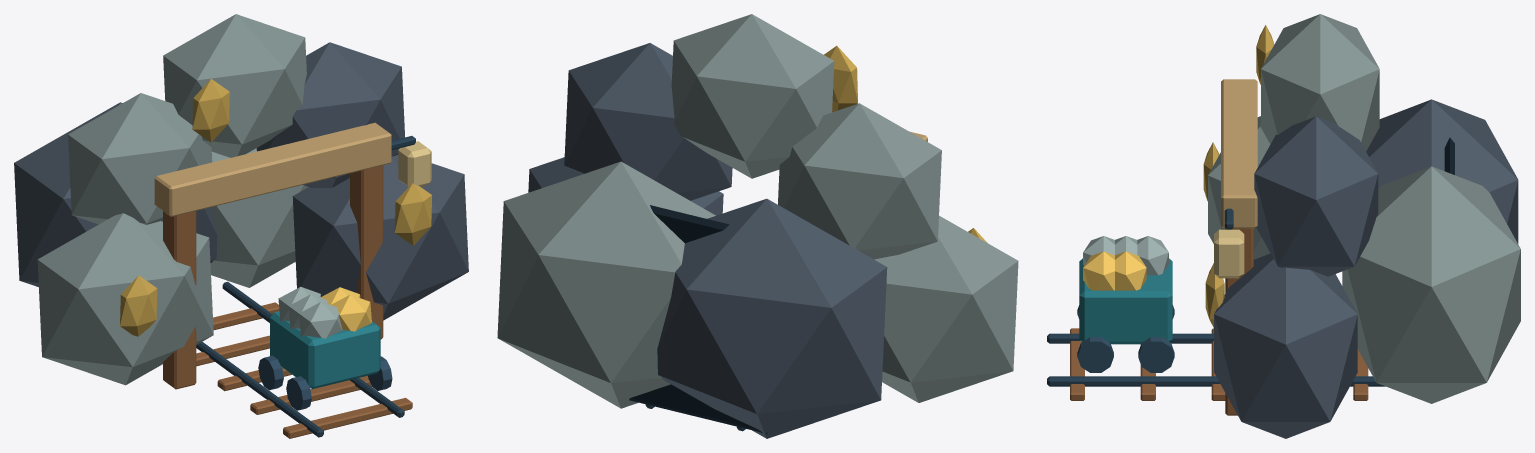
File: gold_mine.glb
The picture shows the model from 3 angles, left to right: view 1: azimuth 30°, elevation 25°; view 2: azimuth 150°, elevation 25°; view 3: azimuth 270°, elevation 25°; orthographic projection. The views are drawn at different scales.
Visible parts, largest first — view 1: rock face, cart; view 2: rock face; view 3: rock face, cart.
Part boxes in pixels (<box>): rock face: <box>14,14,468,438</box>; cart: <box>258,286,392,410</box>; rock face: <box>497,14,1018,438</box>; rock face: <box>1047,14,1520,438</box>; cart: <box>1077,236,1174,372</box>.
Bounding box in the file's own units: 2.64 × 1.94 × 2.34.
